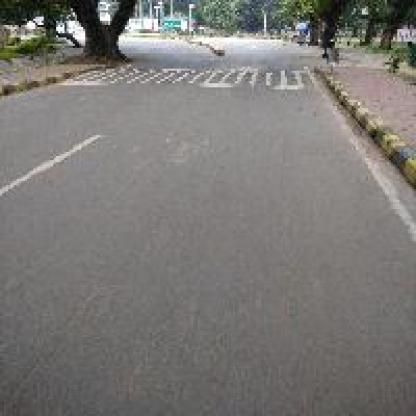Speed Bump: (60, 64, 310, 90)
